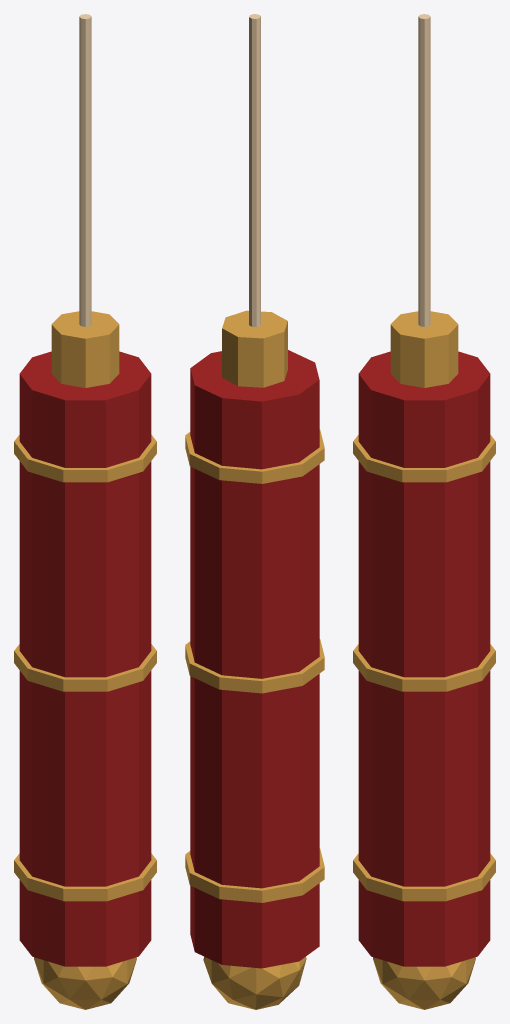
Rendered from jemparingan_bandulan.obj.
3 renders of one model, left to right at view 1: azimuth 90°, elevation 25°; view 2: azimuth 150°, elevation 25°; view 3: azimuth 270°, elevation 25°, orthographic.
Parts seen in each view (by area): view 1: part_0, part_4, part_5, part_6, part_1, part_2, part_3; view 2: part_0, part_4, part_5, part_6, part_2, part_3, part_1; view 3: part_0, part_4, part_5, part_6, part_1, part_2, part_3.
Boxes of the visible parts, box(x1,y1,x2,y2) form: part_0: box(19, 351, 151, 966); part_4: box(51, 311, 119, 387); part_5: box(79, 14, 91, 326); part_6: box(34, 957, 136, 1009); part_1: box(14, 853, 156, 901); part_2: box(14, 644, 156, 691); part_3: box(14, 435, 156, 482); part_0: box(190, 350, 319, 968); part_4: box(222, 310, 287, 387); part_5: box(249, 14, 260, 326); part_6: box(203, 957, 306, 1009); part_2: box(185, 639, 324, 693); part_3: box(185, 429, 324, 483); part_1: box(185, 848, 324, 902); part_0: box(358, 351, 490, 966); part_4: box(390, 311, 458, 387); part_5: box(418, 14, 430, 326); part_6: box(373, 957, 475, 1009); part_1: box(353, 853, 495, 901); part_2: box(353, 644, 495, 691); part_3: box(353, 435, 495, 482).
Size of the model in its own units: 0.0999 by 0.803 by 0.105.
